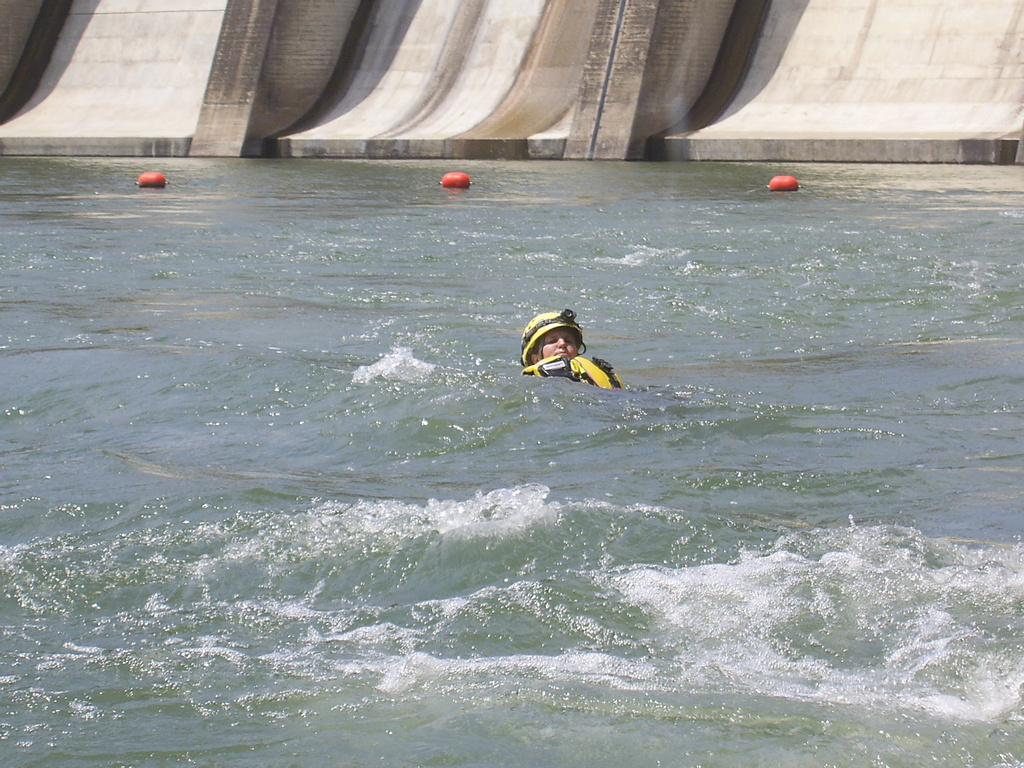person: (519, 309, 626, 390)
